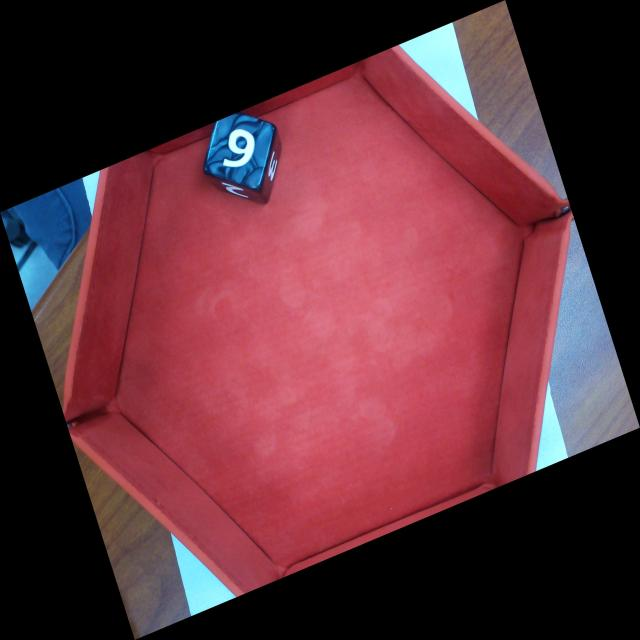dice: (206, 112, 274, 188)
